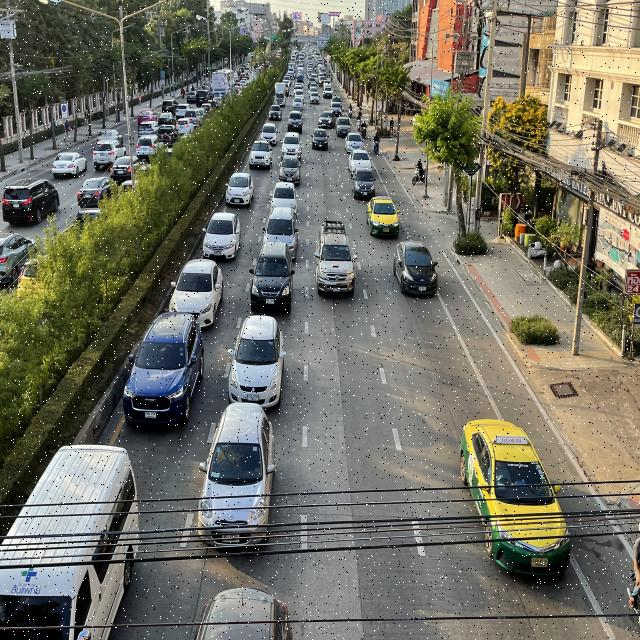truck: (273, 82, 286, 108)
